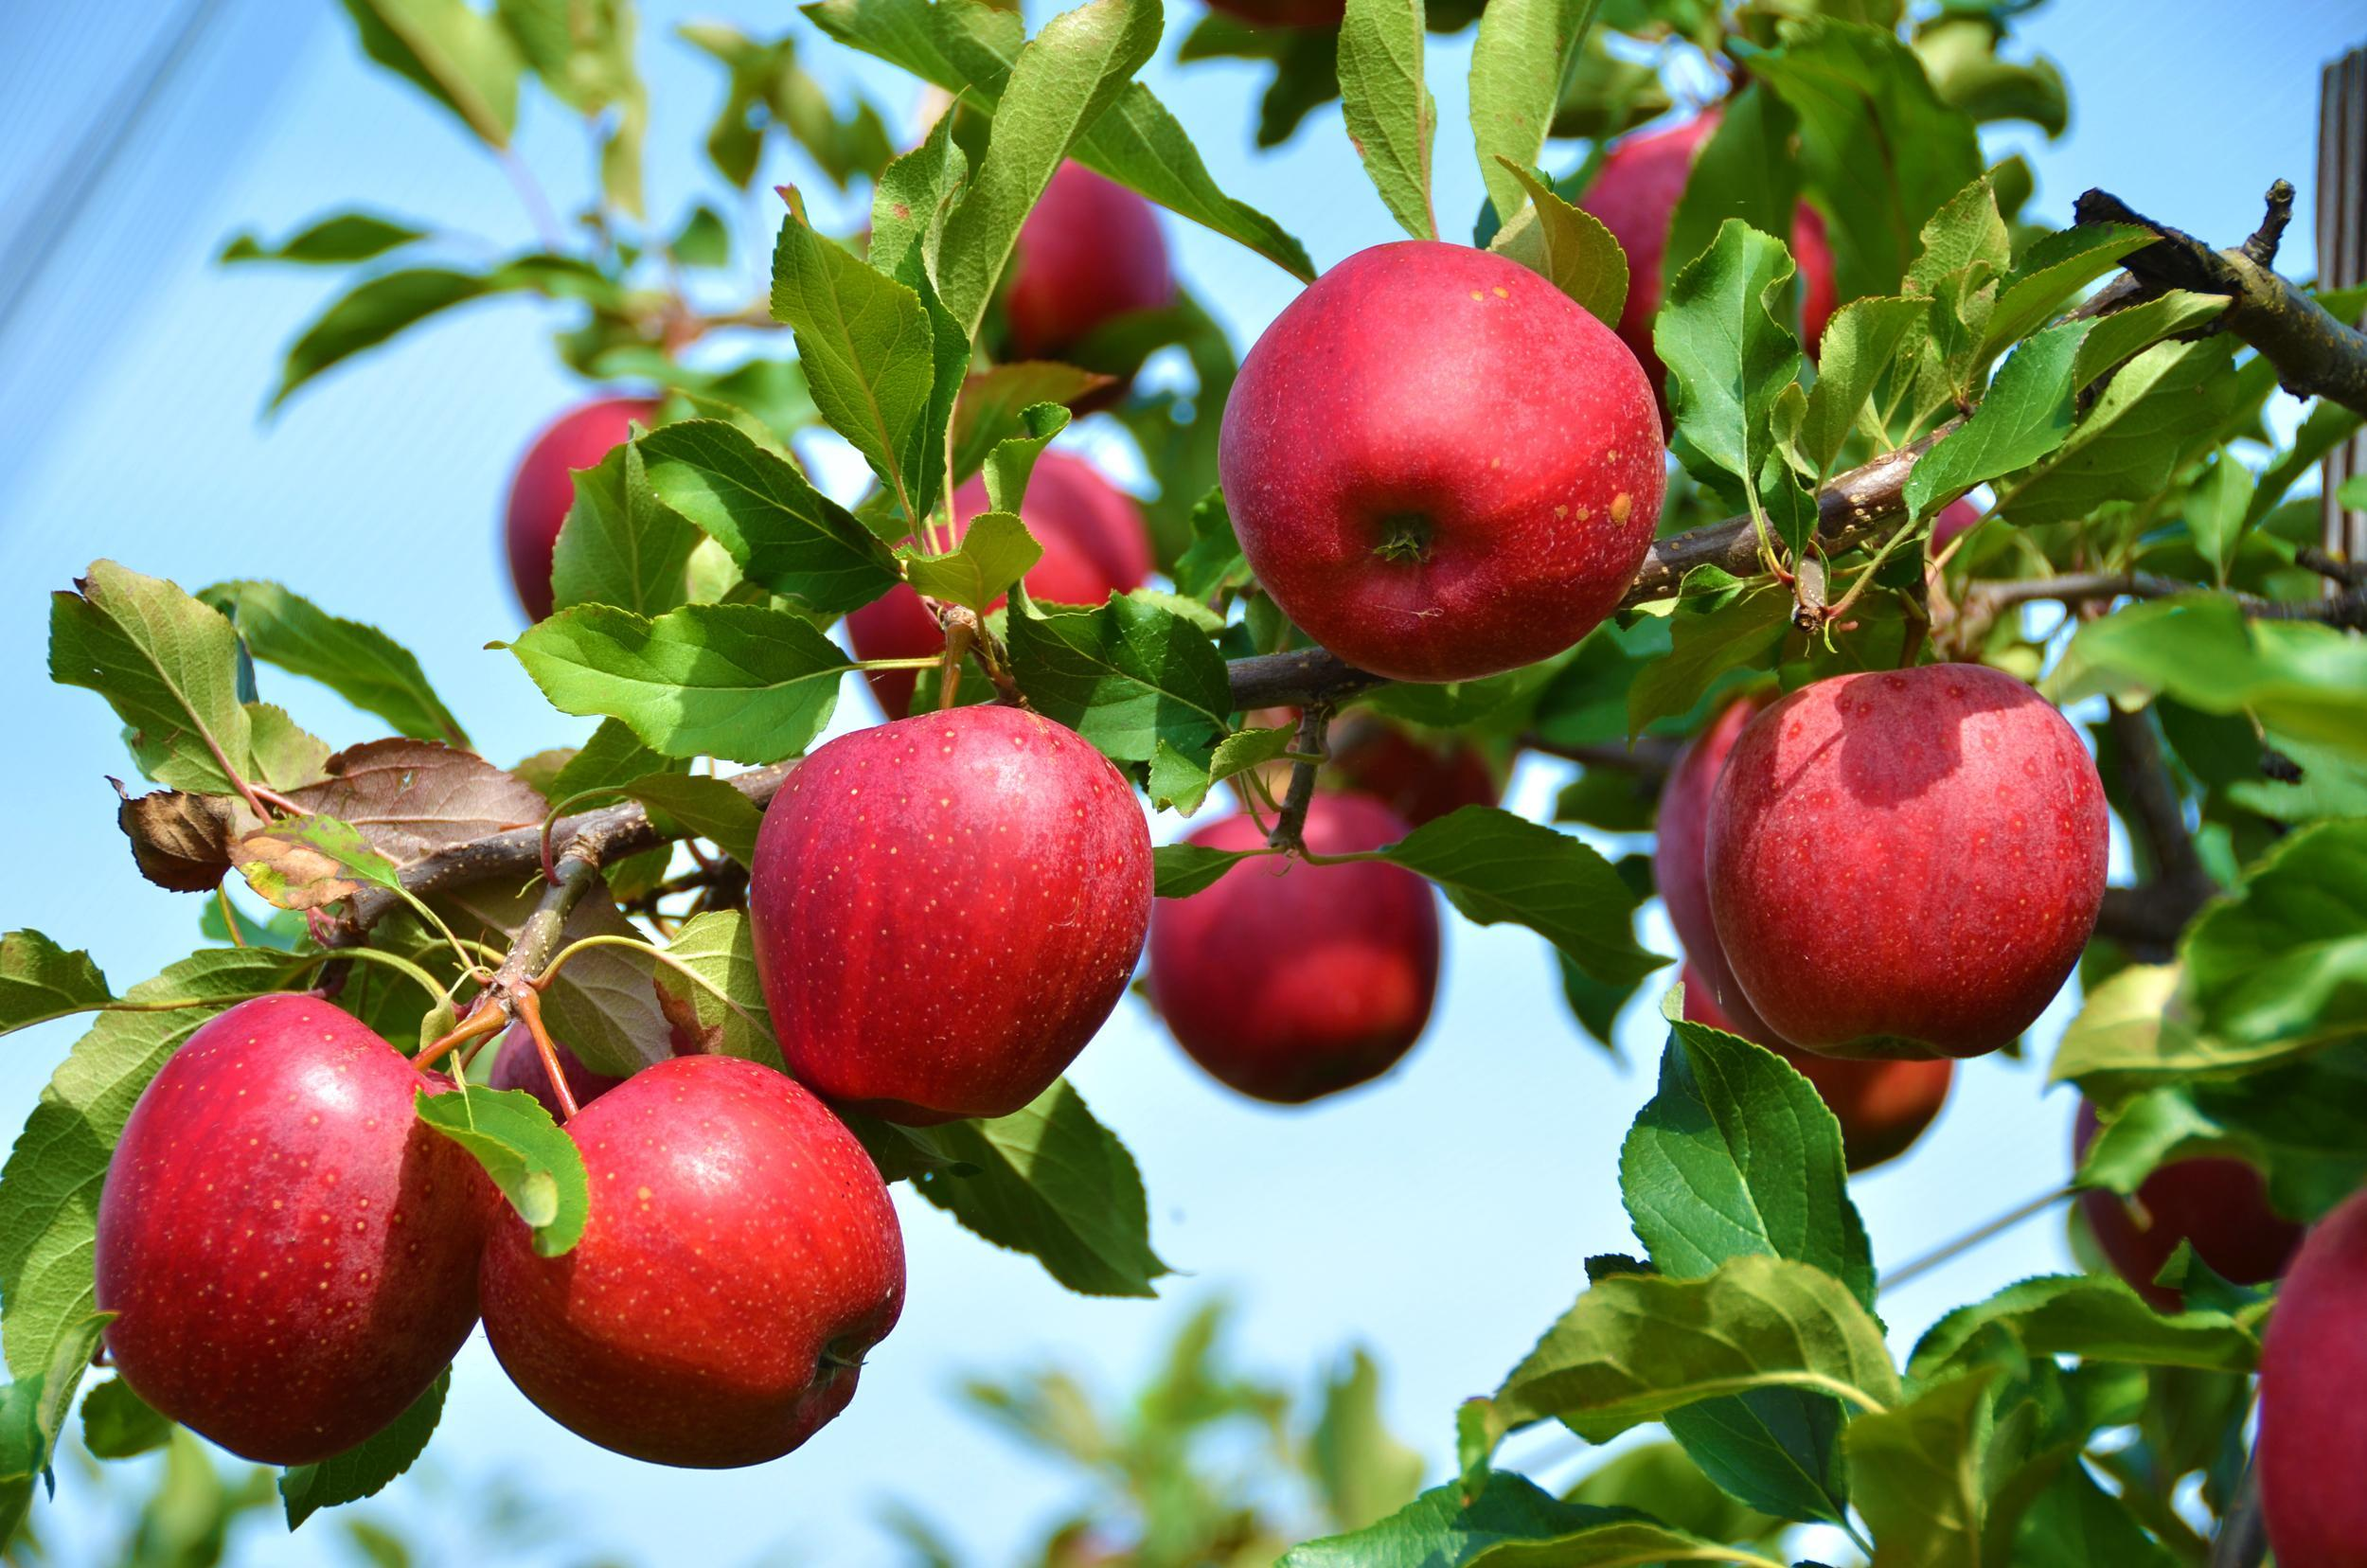apple: (1207, 241, 1660, 689), (98, 992, 507, 1454), (472, 1046, 906, 1472), (742, 689, 1153, 1129), (1699, 639, 2113, 1073), (843, 434, 1151, 718), (1144, 833, 1438, 1113), (495, 394, 654, 614)
